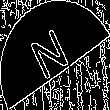N_SE: (31, 23, 79, 87)
